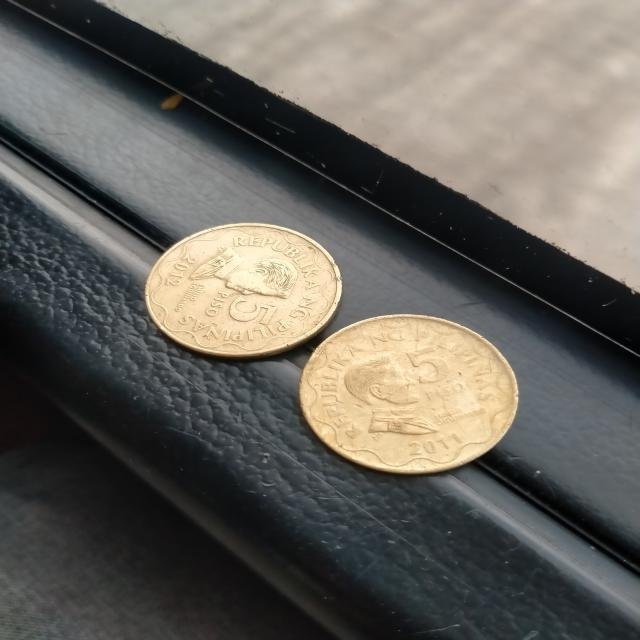5_Old_Front: (401, 342, 475, 408), (200, 284, 280, 334)
